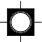ress_can_light: (0, 0, 41, 42)
